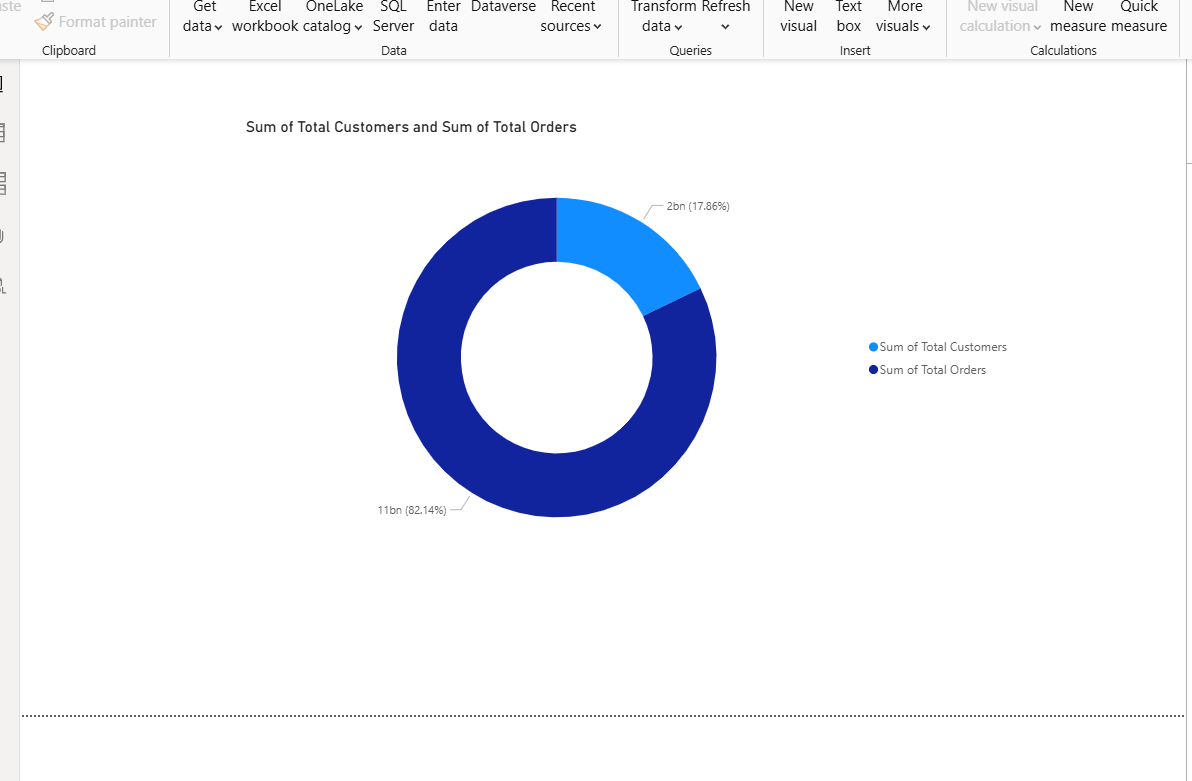

Layout of this report page (visuals, bound fields, positions):
{"tool":"powerbi","page":{"name":"Page 5","canvas":[1280,720],"ordinal":4},"visuals":[{"type":"donutChart","fields":{"Y":["Sum(data.Total Orders)","Sum(data.Total Customers)","Sum(data.Total Revenue)"],"Category":["data.InvoiceNo"]},"box":[9.6,0,1133.5,524.2],"z":0}]}

Visuals, with their boxes on the page's 1280x720 design canvas (x1, y1, x2, y2). These are canvas units, not pixel positions in the 1192x781 screenshot, which may show the page scaled, cropped or inside an application window:
donutChart - Sum(data.Total Orders) x Sum(data.Total Customers): (x1=10, y1=0, x2=1143, y2=524)
